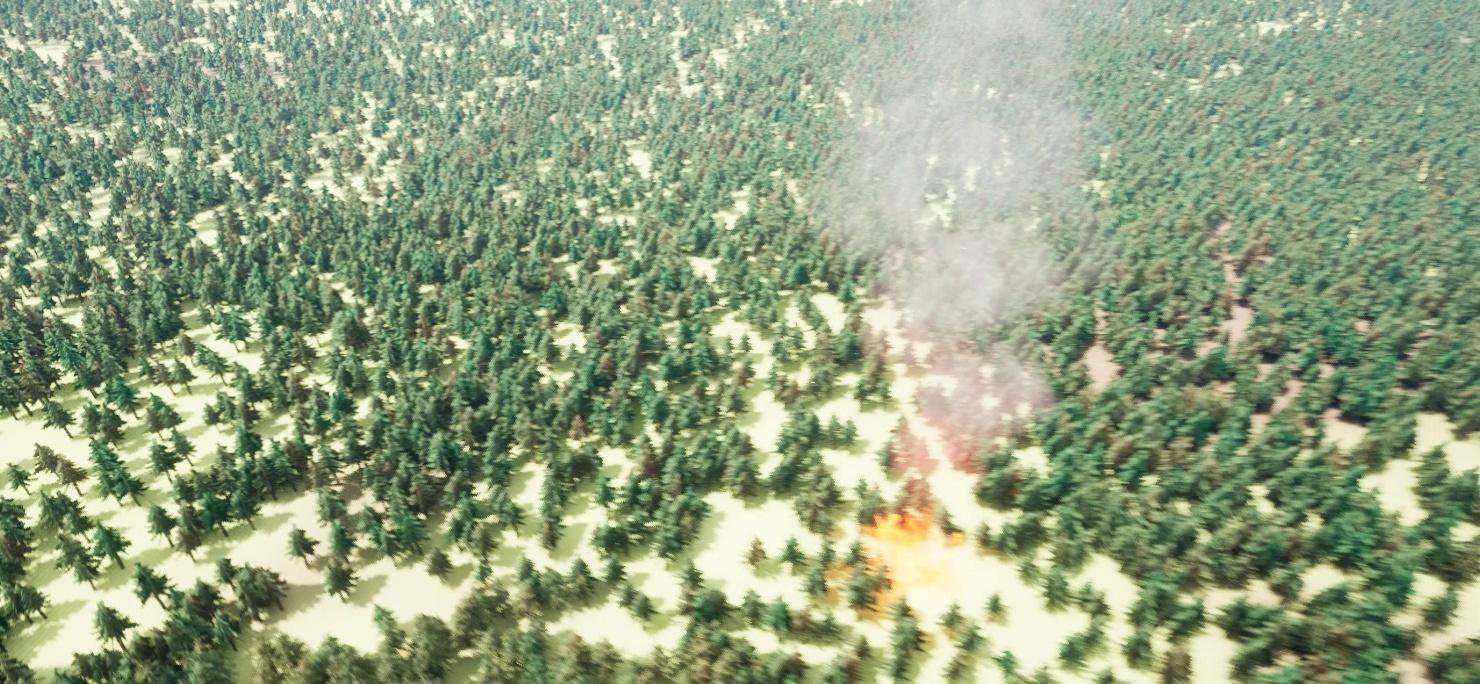fire: (831, 500, 966, 595)
smoke: (808, 0, 1102, 490)
